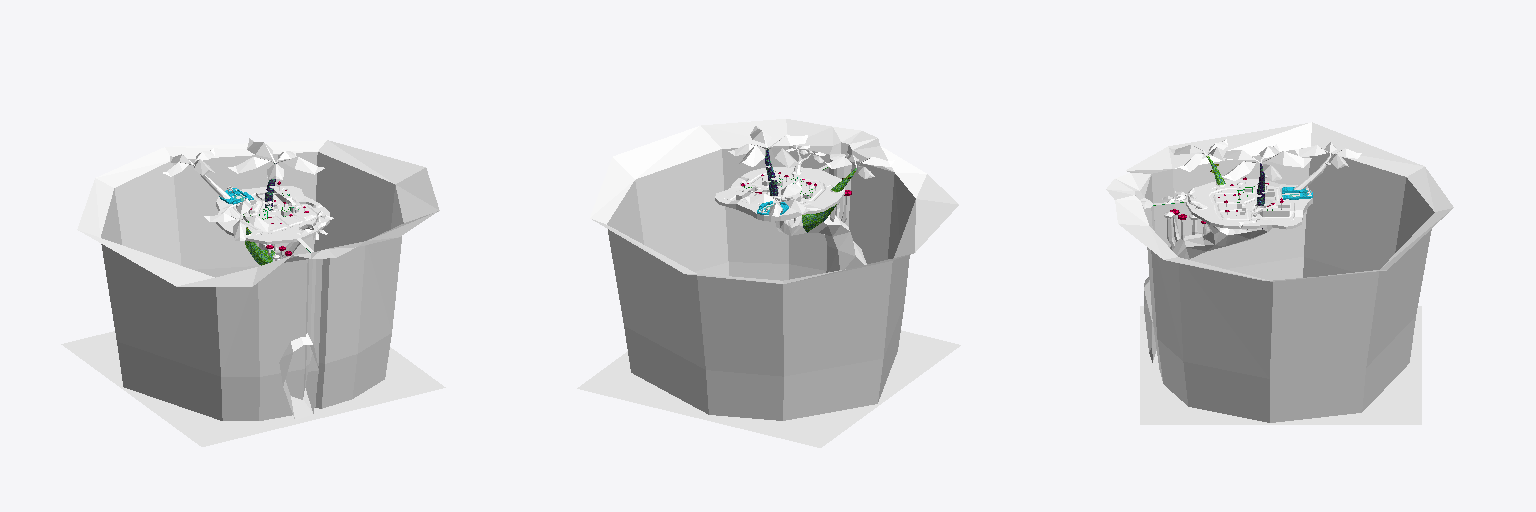
The picture shows the model from 3 angles: view 1: azimuth 30°, elevation 25°; view 2: azimuth 150°, elevation 25°; view 3: azimuth 270°, elevation 25°; orthographic projection.
Parts seen in each view (by area): view 1: Mesh_test; view 2: Mesh_test; view 3: Mesh_test.
Part boxes in pixels (x1,y1,x2,y2): Mesh_test: (61, 138, 445, 446); Mesh_test: (577, 119, 960, 447); Mesh_test: (1106, 122, 1453, 424).
Size of the model in its own units: 53.6 by 34.6 by 49.64.
33 materials, 7 textured.